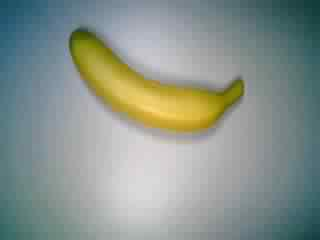banana: (66, 26, 247, 141)
